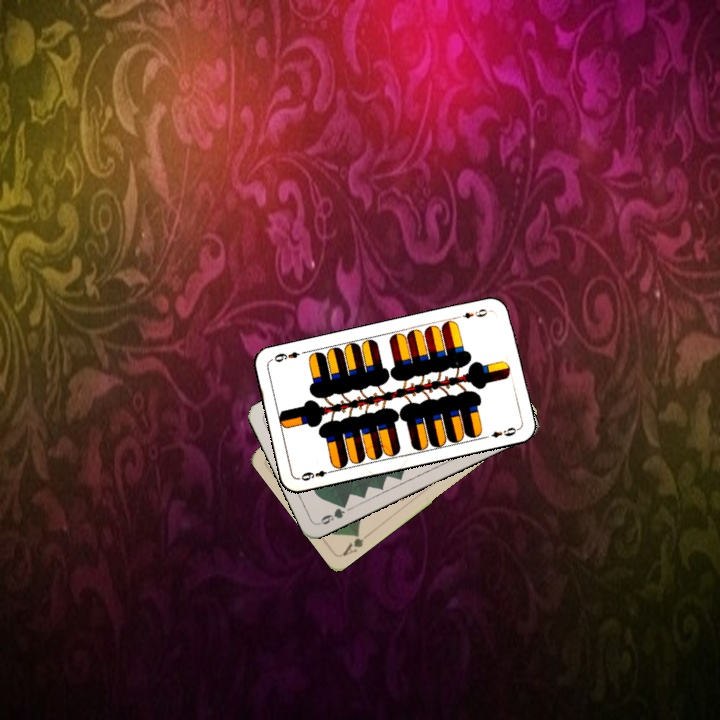E9: (297, 466, 336, 484), (459, 305, 493, 321)
G9: (315, 498, 350, 527)
GA: (339, 528, 373, 559)
